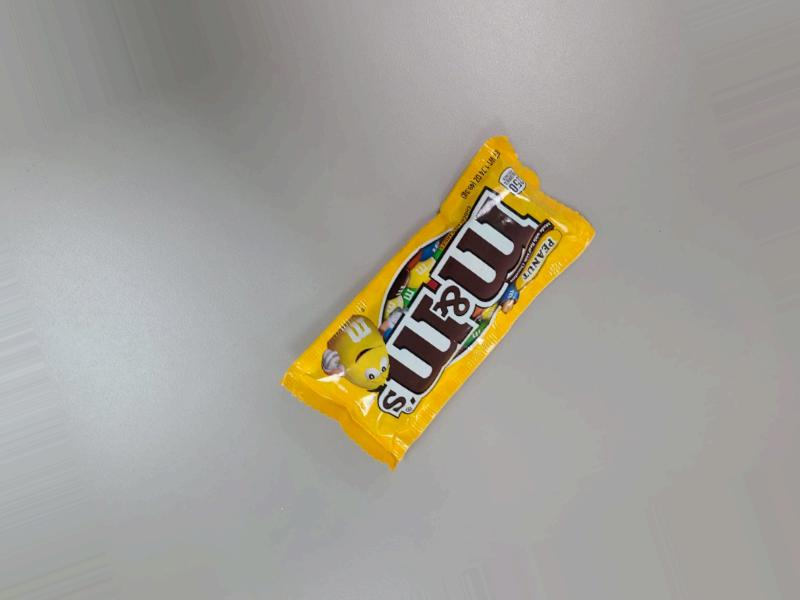m&m: (280, 132, 603, 479)
